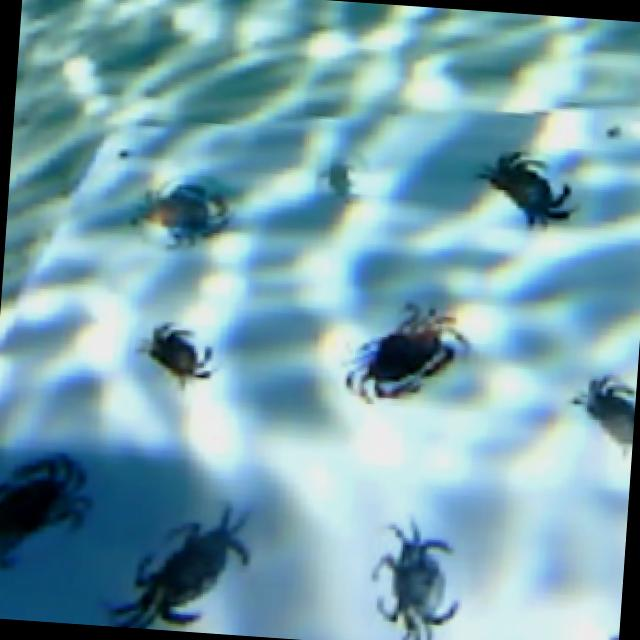green_crab: (102, 490, 270, 637), (358, 493, 477, 640), (310, 139, 372, 220)
jonah_crab: (327, 291, 479, 415), (0, 430, 98, 583), (124, 160, 248, 261)
rock_crab: (474, 131, 586, 251), (128, 302, 228, 396), (562, 349, 638, 458)
